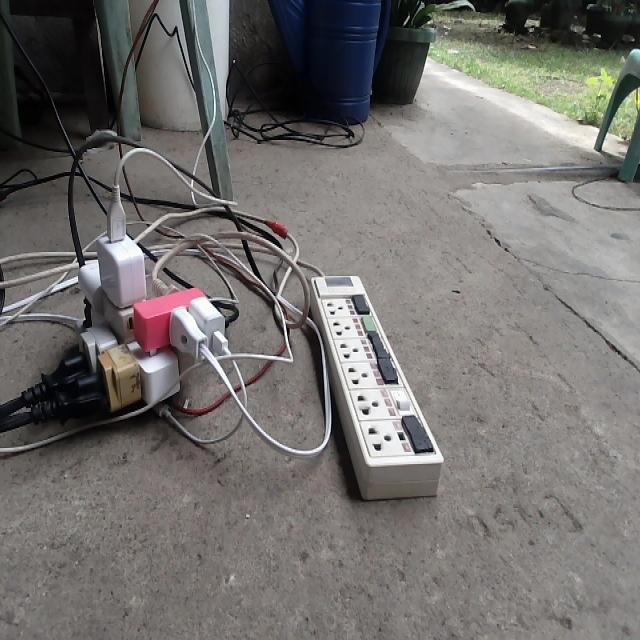-: (42, 199, 226, 413)
